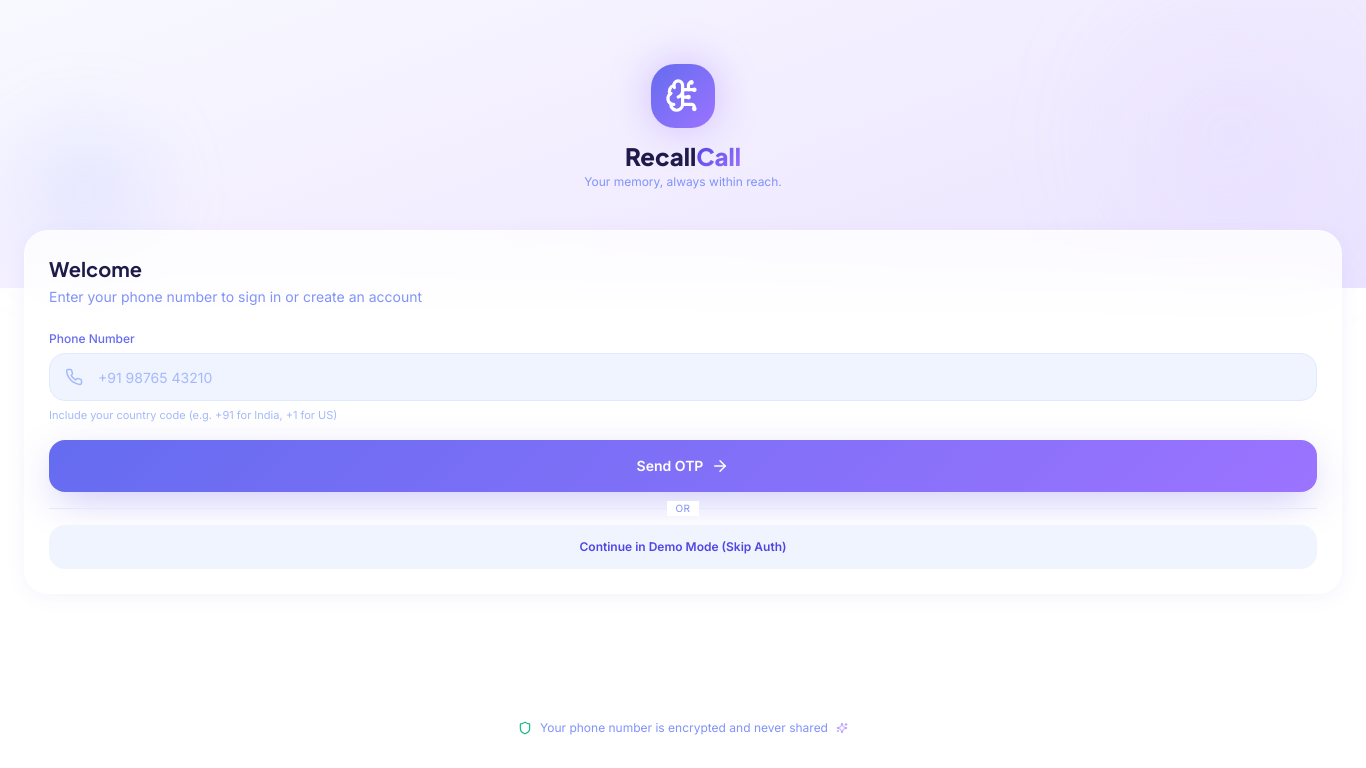
AuthScreen › shows error when Send OTP is clicked with short phone
Type "123" into the field with placeholder "+91 98765 43210".
click(683, 377); type("123")  # box [49,353,1317,401]
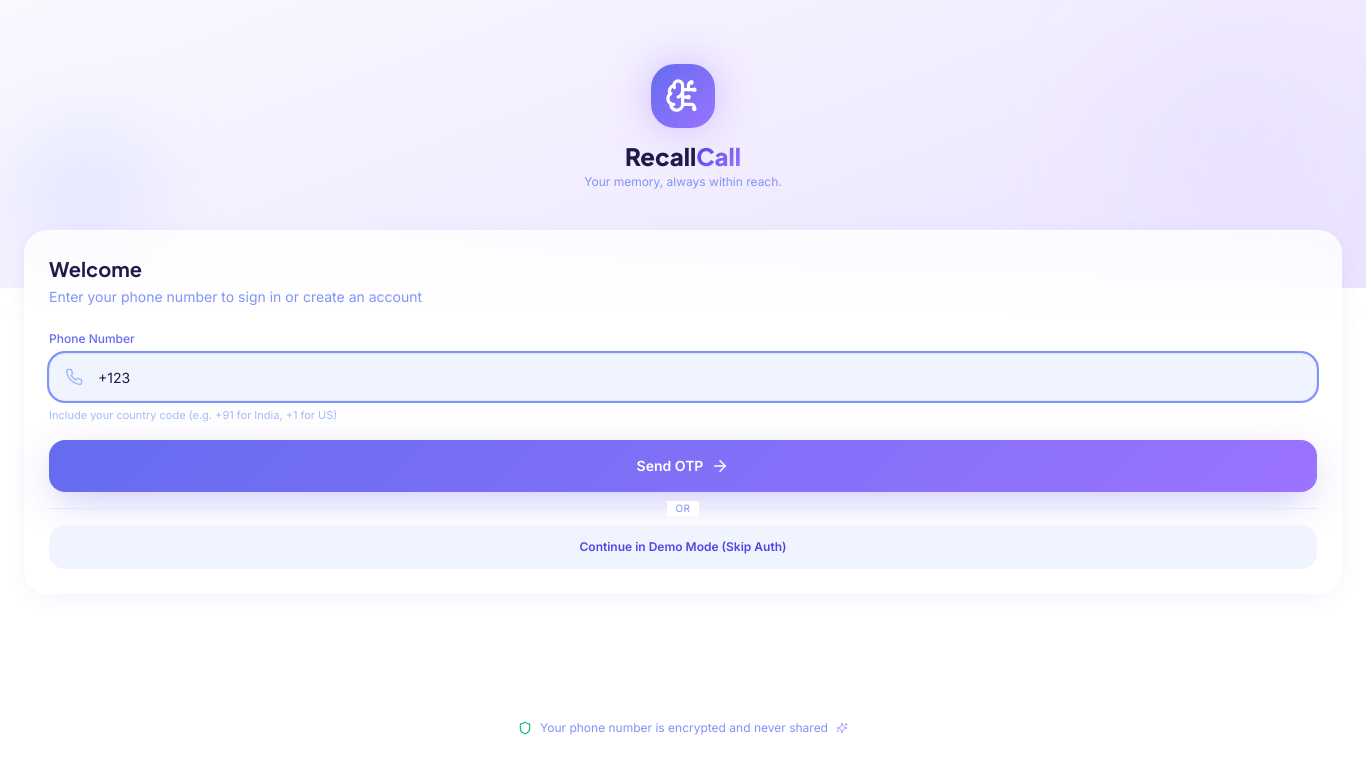
Click the button "Send OTP".
click(683, 466)  # box [49,440,1317,492]
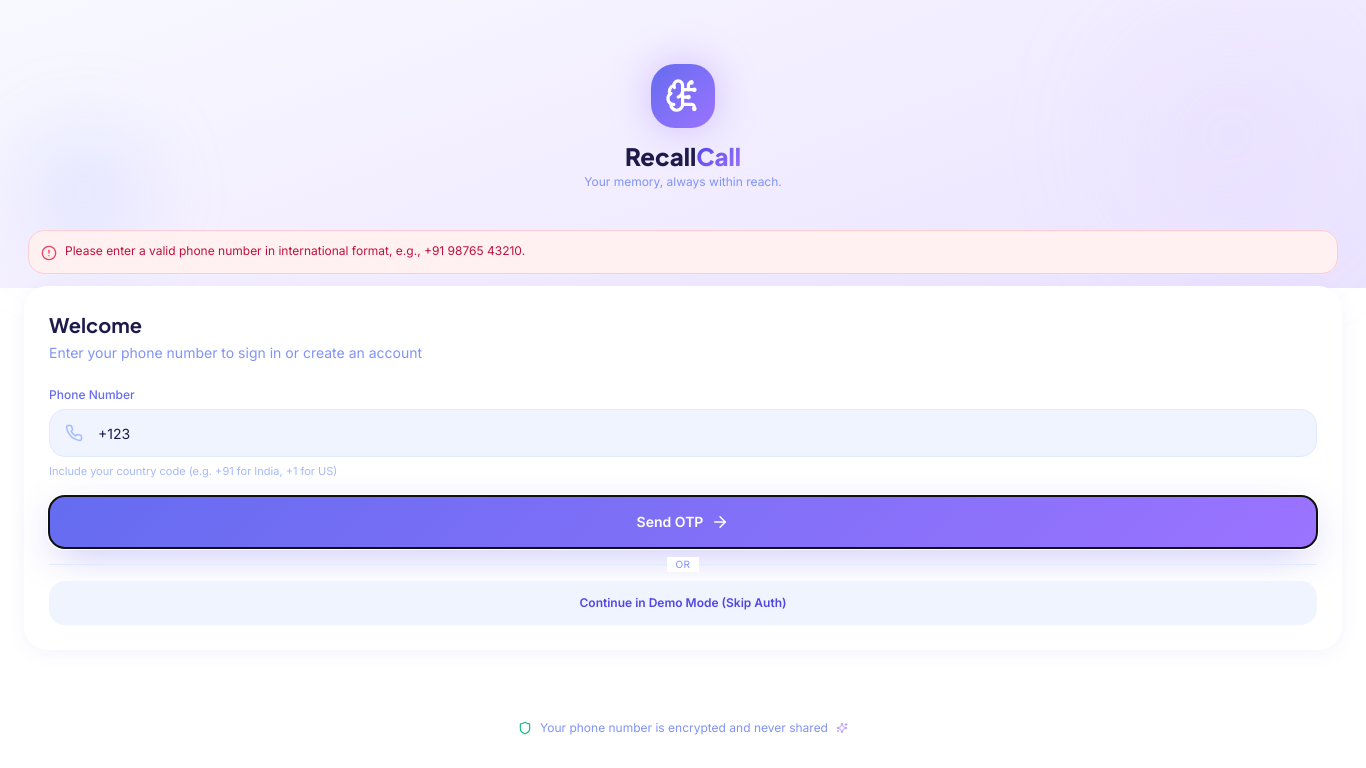
Check: the text "valid phone number" is shown, box [65,243,525,258]
